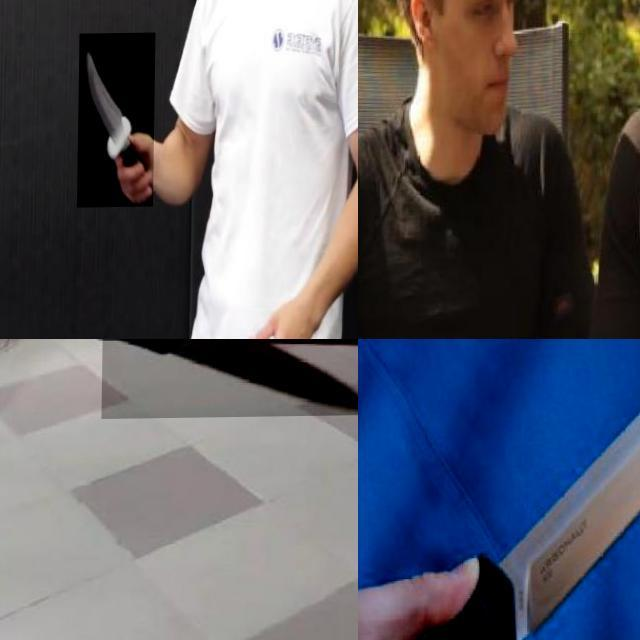-: (358, 339, 640, 640), (102, 339, 358, 419), (78, 34, 156, 208)
